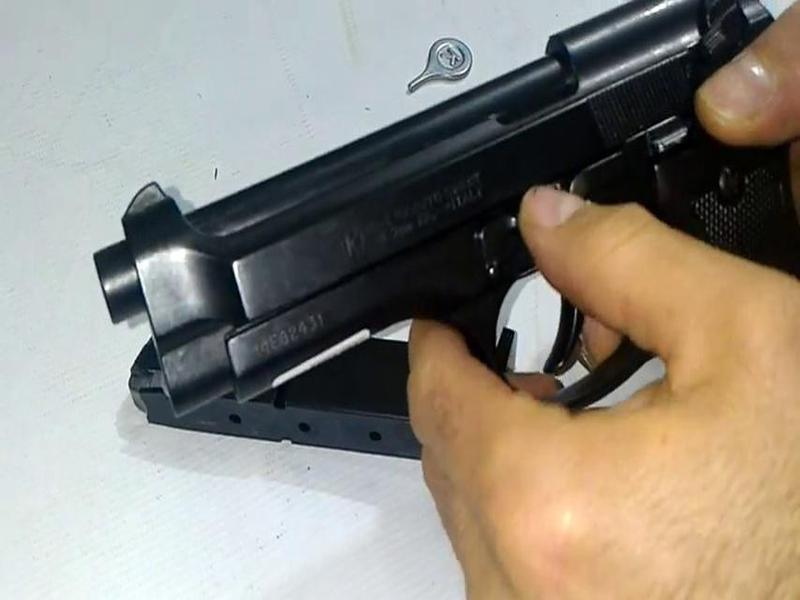Pistola: (97, 1, 785, 469)
